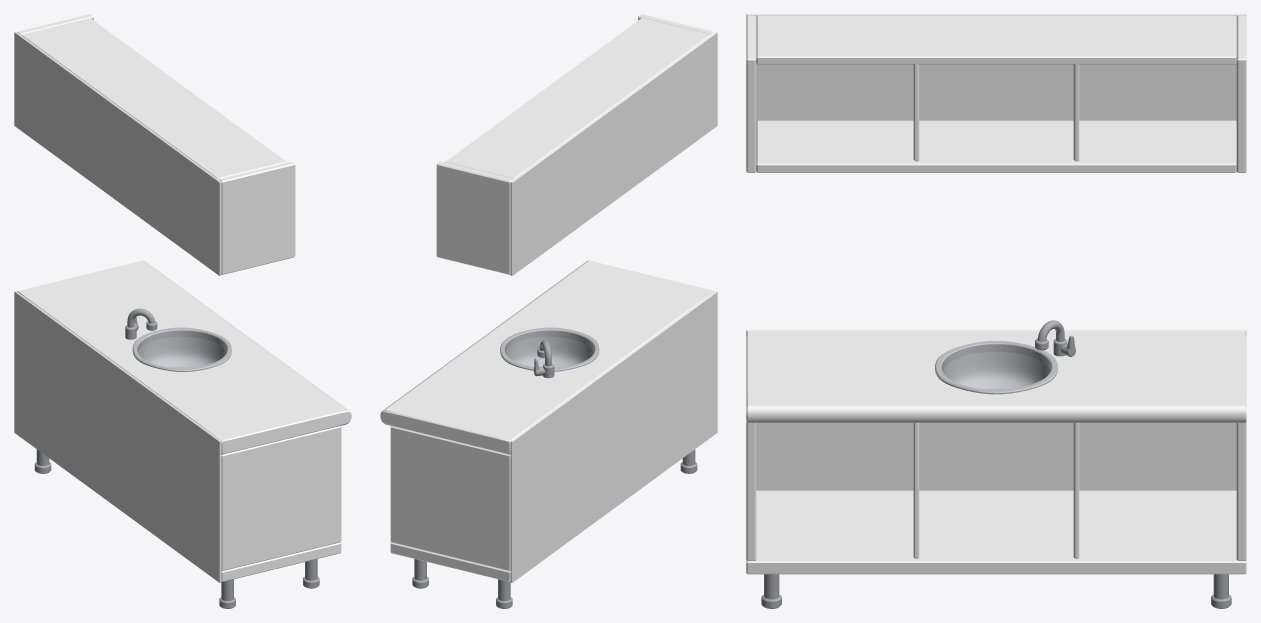
File: Set.fbx
3 views of the same model, side by side, from view 1: azimuth 30°, elevation 25°; view 2: azimuth 150°, elevation 25°; view 3: azimuth 270°, elevation 25° (orthographic). The views are drawn at different scales.
Parts seen in each view (by area): view 1: Set; view 2: Set; view 3: Set.
Boxes of the visible parts, box(x1,y1,x2,y2) form: Set: box(14, 14, 351, 608); Set: box(380, 14, 717, 608); Set: box(746, 14, 1246, 608).
Bounding box in the file's own units: 0.6606 × 2.07 × 1.77.
